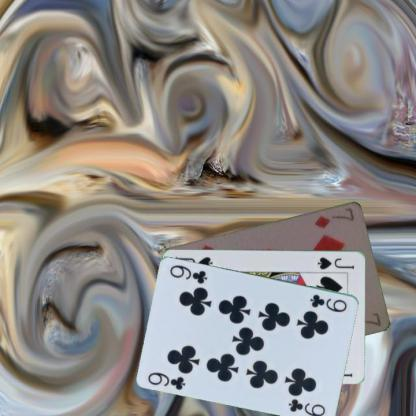7d: (312, 204, 356, 230)
9c: (146, 369, 188, 391), (308, 291, 348, 313)
Js: (314, 254, 356, 271)
